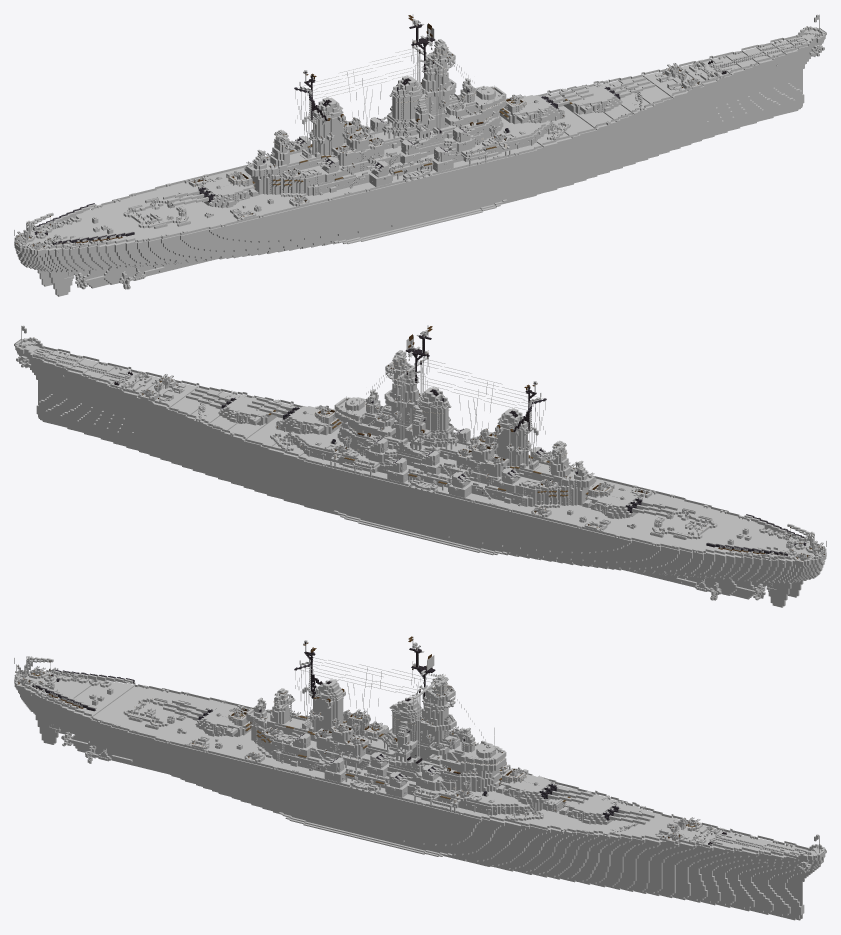
Rendered from Wisconsin 2025v2.obj.
3 renders of one model, top to bottom at view 1: azimuth 30°, elevation 25°; view 2: azimuth 150°, elevation 25°; view 3: azimuth 330°, elevation 25°, orthographic.
Parts seen in each view (by area): view 1: Red_Terracotta, Stone, Cyan_Terracotta, Oak_Planks, Iron_Bars, Black_Wool, Oak_Slab, Gray_Carpet, Stone_Slab, Iron_Trapdoor, Chain, Stone_Brick_Slab (+17 smaller); view 2: Red_Terracotta, Stone, Cyan_Terracotta, Oak_Planks, Iron_Bars, Black_Wool, Oak_Slab, Gray_Carpet, Stone_Slab, Iron_Trapdoor, Stone_Brick_Slab, Chain (+17 smaller); view 3: Red_Terracotta, Stone, Cyan_Terracotta, Oak_Planks, Iron_Bars, Black_Wool, Oak_Slab, Gray_Carpet, Iron_Trapdoor, Stone_Slab, Stone_Brick_Slab, Stone_Brick_Stairs (+16 smaller).
Boxes of the visible parts, x1,y1,x2,y2 form: Red_Terracotta: (37,79,804,296); Stone: (14,32,825,255); Cyan_Terracotta: (16,57,810,266); Oak_Planks: (19,61,728,249); Iron_Bars: (15,28,808,249); Black_Wool: (22,73,802,271); Oak_Slab: (19,57,743,249); Gray_Carpet: (36,39,701,241); Stone_Slab: (23,34,815,251); Iron_Trapdoor: (15,24,819,250); Chain: (295,36,443,153); Stone_Brick_Slab: (18,22,820,246); Red_Terracotta: (36,390,803,607); Stone: (15,341,826,566); Cyan_Terracotta: (30,368,825,577); Oak_Planks: (112,372,821,560); Iron_Bars: (32,339,825,560); Black_Wool: (38,384,818,582); Oak_Slab: (97,368,821,560); Gray_Carpet: (139,350,804,552); Stone_Slab: (25,345,817,562); Iron_Trapdoor: (21,335,825,561); Stone_Brick_Slab: (20,333,822,557); Chain: (397,347,545,464); Red_Terracotta: (34,714,804,920); Stone: (14,673,825,873); Cyan_Terracotta: (17,686,810,885); Oak_Planks: (18,674,729,847); Iron_Bars: (15,653,807,857); Black_Wool: (25,680,802,891); Oak_Slab: (20,673,742,848); Gray_Carpet: (35,670,701,838); Iron_Trapdoor: (14,651,818,869); Stone_Slab: (24,672,815,858); Stone_Brick_Slab: (18,646,713,842); Stone_Brick_Stairs: (41,675,784,853).
Size of the model in its own units: 408 by 91 by 51.
